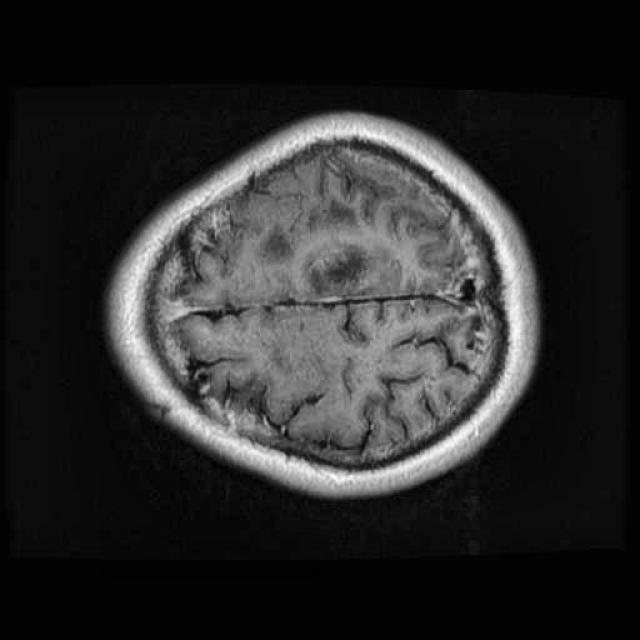Non-Tumor: (294, 225, 388, 311)
